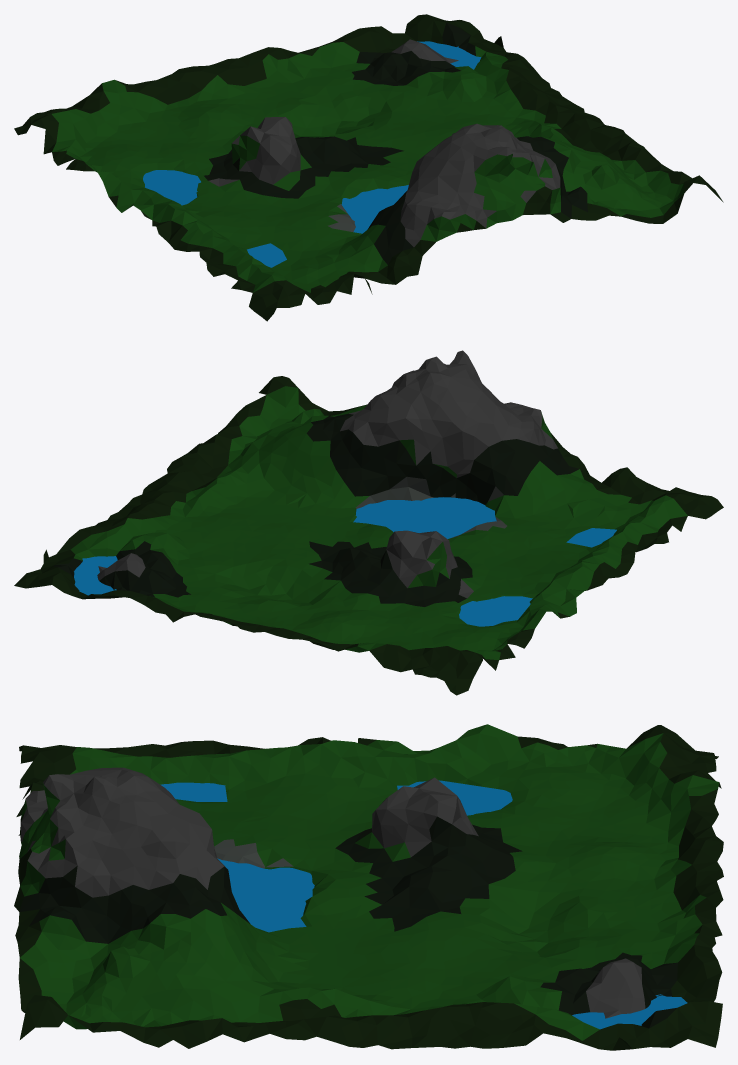
File: landscape.obj
3 views of the same model, one above another, from view 1: azimuth 30°, elevation 25°; view 2: azimuth 150°, elevation 25°; view 3: azimuth 270°, elevation 25° (orthographic). The views are drawn at different scales.
Visible parts, largest first — view 1: Plane; view 2: Plane; view 3: Plane.
Boxes of the visible parts, box(x1,y1,x2,y2) form: Plane: box(14, 14, 723, 321); Plane: box(14, 350, 723, 695); Plane: box(14, 724, 723, 1050).
Bounding box in the file's own units: 99.07 × 27.12 × 99.14.
